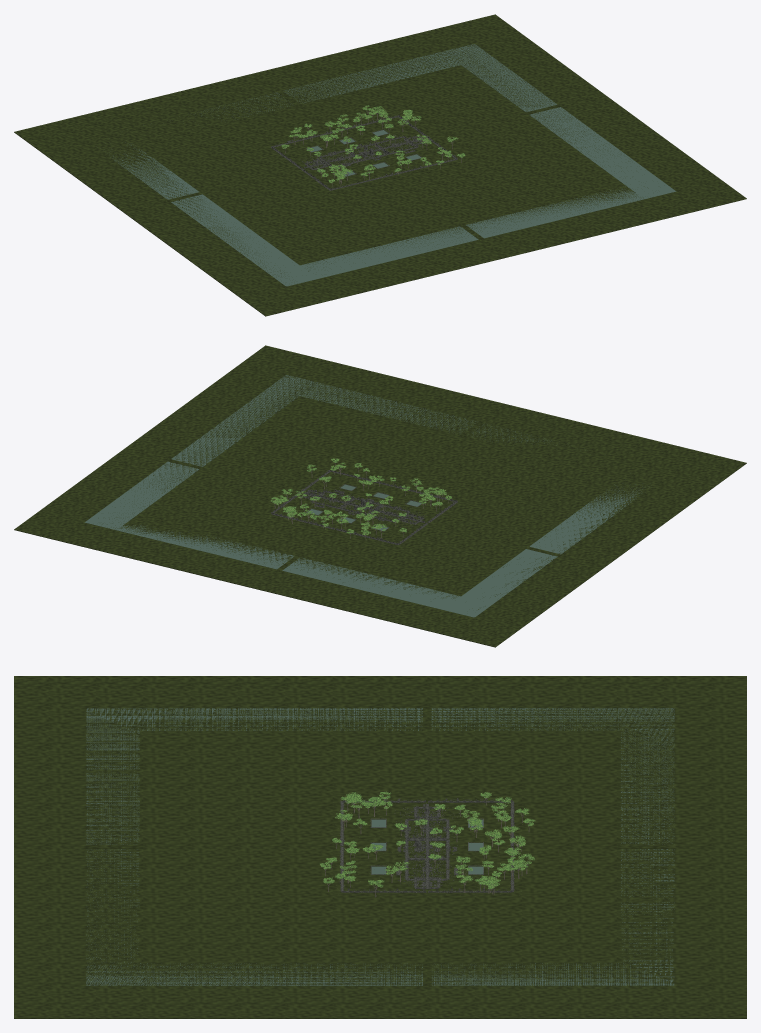
The model's file is banteay-chhmar-ultra.glb.
The picture shows the model from 3 angles, top to bottom: view 1: azimuth 30°, elevation 25°; view 2: azimuth 150°, elevation 25°; view 3: azimuth 270°, elevation 25°; orthographic projection. The views are drawn at different scales.
Parts seen in each view (by area): view 1: Batched Viewer Dry forest soil, Batched Viewer Moat • muted seasonal water, Batched Viewer Weathered grey sandstone • procedural, no pho, Batched Viewer Foliage 3, Batched Viewer Foliage 0, Batched Viewer Foliage 2, Batched Viewer Foliage 1, Batched Viewer Tree bark; view 2: Batched Viewer Dry forest soil, Batched Viewer Moat • muted seasonal water, Batched Viewer Weathered grey sandstone • procedural, no pho, Batched Viewer Foliage 2, Batched Viewer Foliage 3, Batched Viewer Foliage 0, Batched Viewer Foliage 1, Batched Viewer Tree bark; view 3: Batched Viewer Dry forest soil, Batched Viewer Moat • muted seasonal water, Batched Viewer Weathered grey sandstone • procedural, no pho, Batched Viewer Foliage 0, Batched Viewer Foliage 2, Batched Viewer Foliage 1, Batched Viewer Foliage 3, Batched Viewer Tree bark.
Part boxes in pixels (bbox=[...]): Batched Viewer Dry forest soil: bbox=[14, 14, 746, 316]; Batched Viewer Moat • muted seasonal water: bbox=[110, 44, 676, 286]; Batched Viewer Weathered grey sandstone • procedural, no pho: bbox=[271, 115, 457, 190]; Batched Viewer Foliage 3: bbox=[282, 105, 464, 182]; Batched Viewer Foliage 0: bbox=[281, 106, 464, 182]; Batched Viewer Foliage 2: bbox=[282, 105, 464, 182]; Batched Viewer Foliage 1: bbox=[281, 105, 464, 182]; Batched Viewer Tree bark: bbox=[284, 110, 461, 186]; Batched Viewer Dry forest soil: bbox=[14, 345, 746, 647]; Batched Viewer Moat • muted seasonal water: bbox=[84, 375, 642, 617]; Batched Viewer Weathered grey sandstone • procedural, no pho: bbox=[271, 470, 457, 545]; Batched Viewer Foliage 2: bbox=[271, 458, 451, 535]; Batched Viewer Foliage 3: bbox=[271, 458, 451, 534]; Batched Viewer Foliage 0: bbox=[271, 459, 451, 534]; Batched Viewer Foliage 1: bbox=[272, 458, 451, 534]; Batched Viewer Tree bark: bbox=[274, 462, 448, 539]; Batched Viewer Dry forest soil: bbox=[14, 676, 746, 1018]; Batched Viewer Moat • muted seasonal water: bbox=[86, 708, 674, 985]; Batched Viewer Weathered grey sandstone • procedural, no pho: bbox=[339, 798, 514, 892]; Batched Viewer Foliage 0: bbox=[320, 792, 534, 888]; Batched Viewer Foliage 2: bbox=[320, 791, 534, 888]; Batched Viewer Foliage 1: bbox=[320, 792, 535, 888]; Batched Viewer Foliage 3: bbox=[321, 791, 535, 889]; Batched Viewer Tree bark: bbox=[324, 795, 531, 897].
Bounding box in the file's own units: 114 × 2.94 × 103.
Materials: 10 (3 with a texture image).
